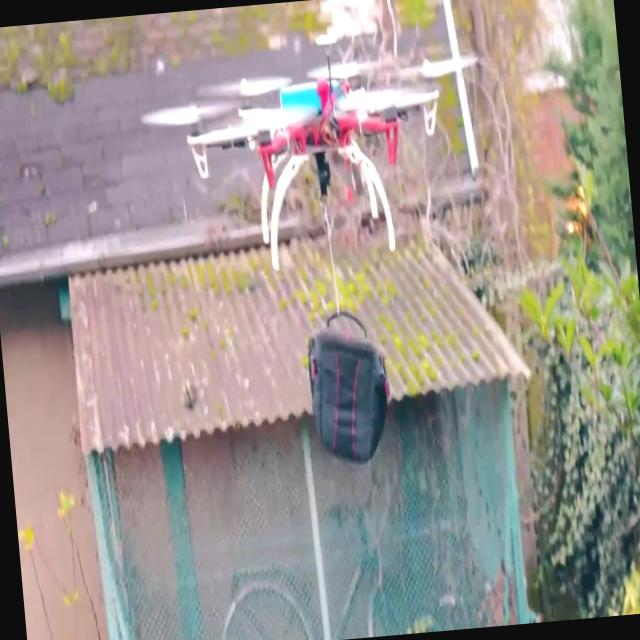drone: (140, 21, 462, 280)
